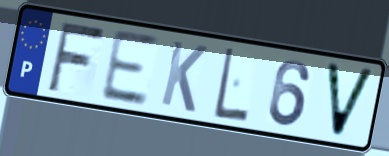6: (267, 58, 312, 128)
E: (97, 26, 161, 108)
F: (45, 19, 109, 94)
K: (158, 37, 210, 116)
L: (212, 45, 251, 125)
V: (323, 59, 378, 142)
